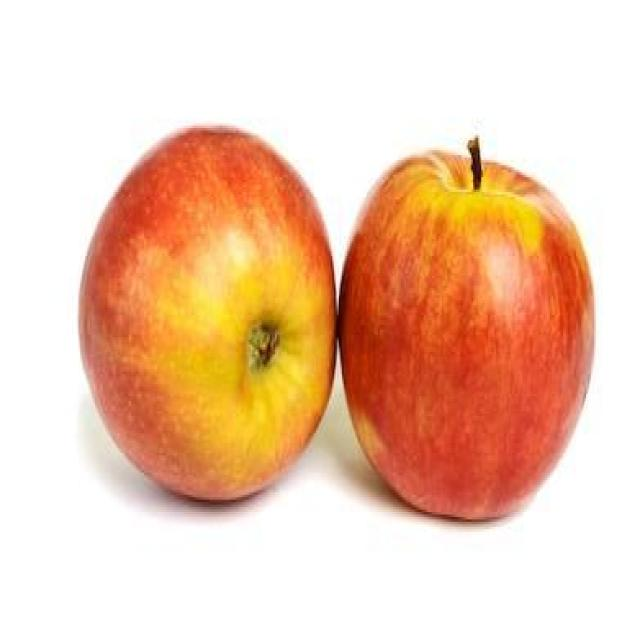apple: (77, 123, 340, 506), (344, 144, 596, 522)
